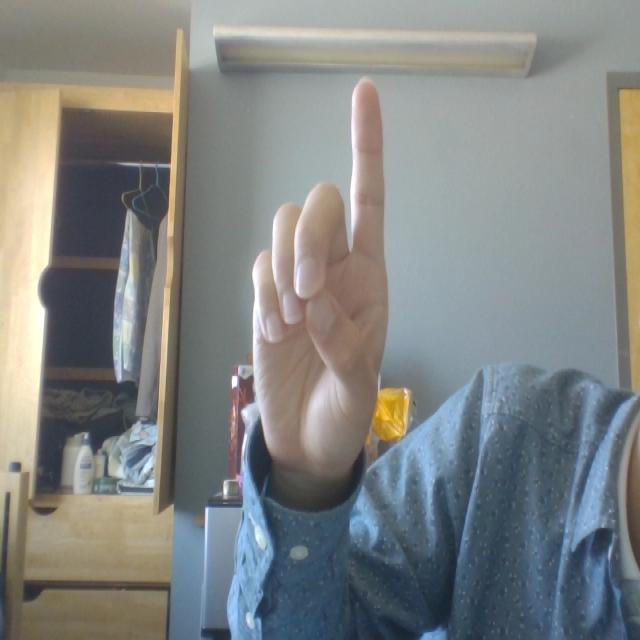D: (211, 52, 437, 506)
